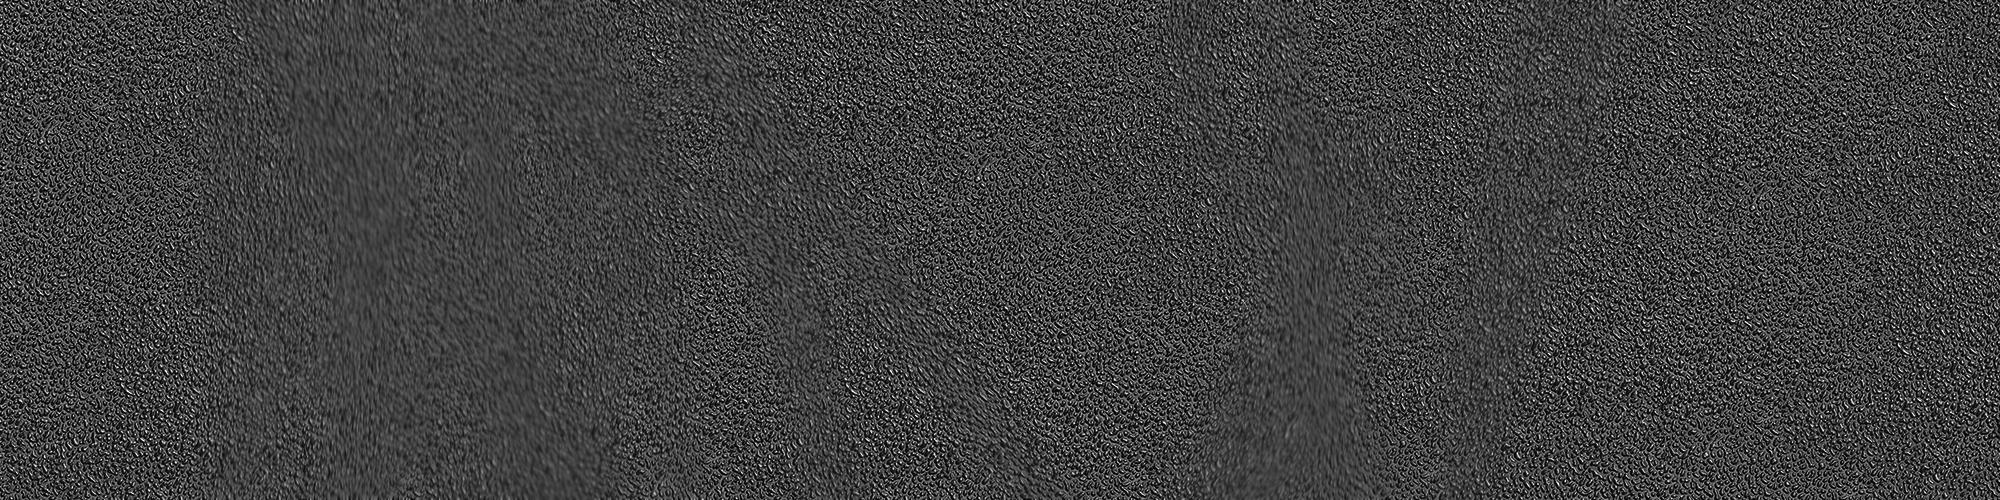Flow_Lines: (214, 9, 644, 483), (1407, 28, 1597, 483), (1214, 27, 1388, 491), (1407, 24, 1413, 28)
